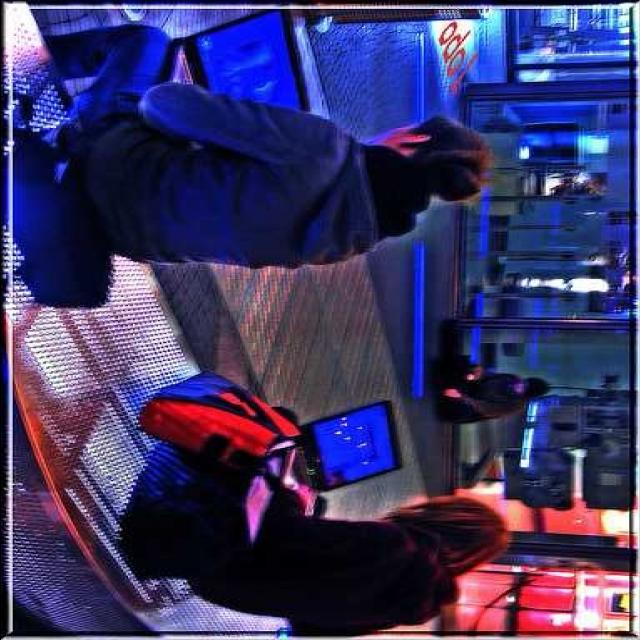laptop: (174, 21, 306, 108), (290, 399, 397, 482)
